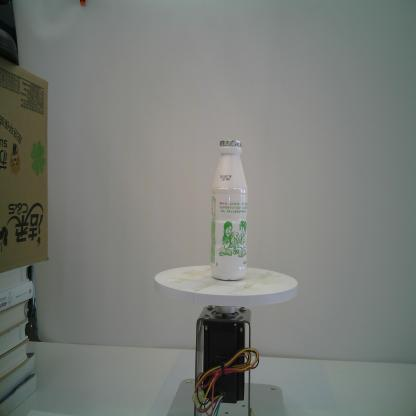Milk: (209, 140, 248, 281)
